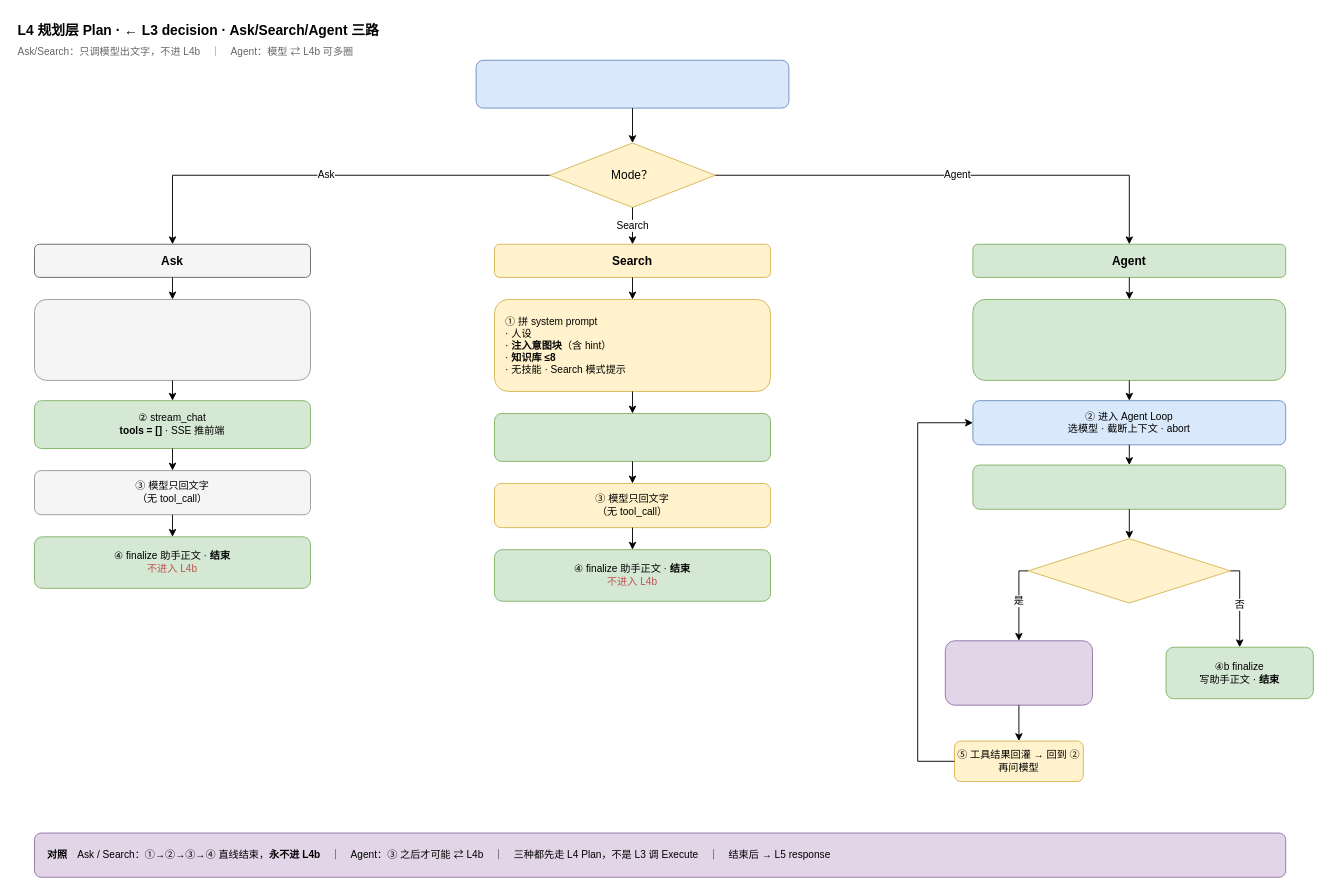
Image size: 1329x893. Some labels were removed from this diagram. The centre of each missing label's shape, as x and y in pixels:
"← L3 decision mode · intent · tools · session_agent · workspace" goes at (632,83).
"① 拼 system prompt（全量） · 人设（可能已按意图选角） · 注入意图块 · 技能 · 知识库 ≤3" goes at (1129,339).
"① 拼 system prompt（短） · 可带人设 · 不注入意图块 · 无知识库 · 无技能" goes at (172,339).
"② stream_chat tools = [] · 依据知识库回答" goes at (632,437).
"③ stream_chat tools = 内置 + MCP" goes at (1129,486).
"④a L4b execute::run 权限 → spawn / MCP / 内置 （见 execute.drawio）" goes at (1018,672).
"有 tool_call？" goes at (1128,570).
